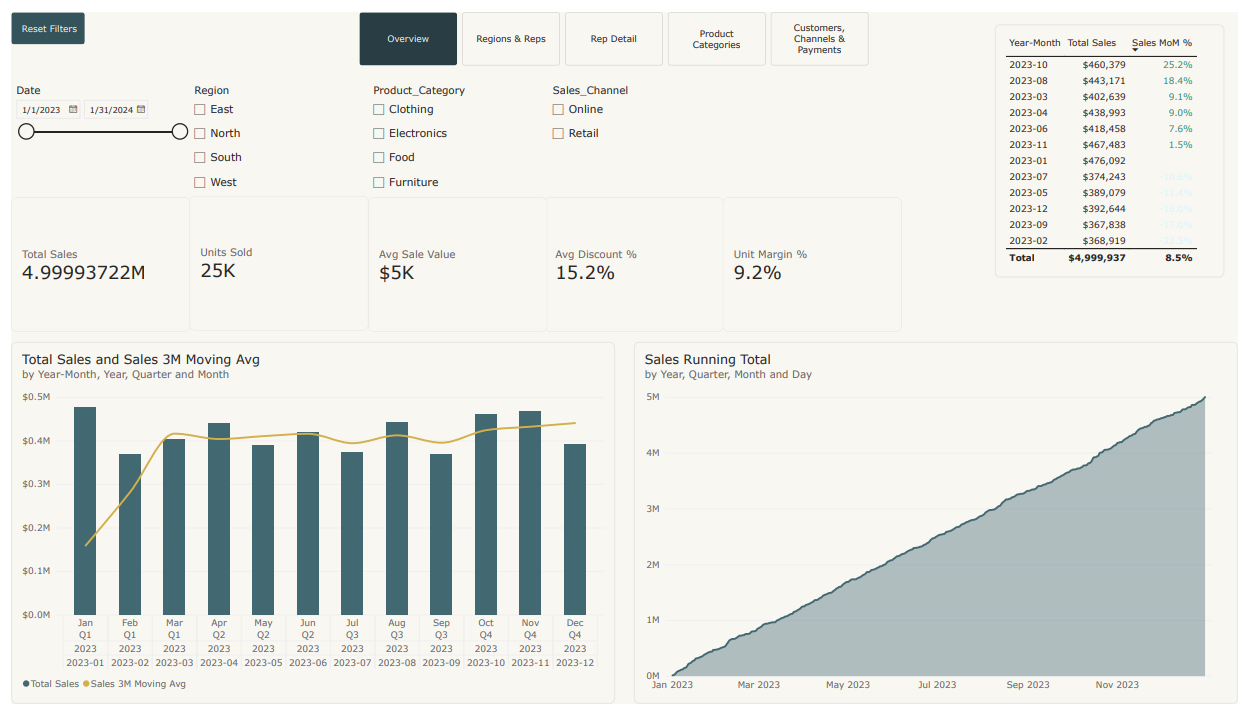

This screenshot's page, from the dashboard's own definition file:
{"tool":"powerbi","page":{"name":"Overview","canvas":[1920,1080],"ordinal":0},"visuals":[{"type":"slicer","fields":{"Values":["Date.Date"]},"box":[0,111.3,279.6,173.6],"z":0},{"type":"slicer","fields":{"Values":["Sales.Region"]},"box":[279.5,111.3,279.6,173.6],"z":1000},{"type":"slicer","fields":{"Values":["Sales.Product_Category"]},"box":[558.9,111.3,280.9,173.6],"z":2000},{"type":"slicer","fields":{"Values":["Sales.Sales_Channel"]},"box":[839.7,111.3,279.6,173.6],"z":3000},{"type":"cardVisual","fields":{"Data":["Sales.Total Sales"]},"box":[0,288.5,280,210],"z":4000},{"type":"cardVisual","fields":{"Data":["Sales.Units Sold"]},"box":[279.5,287.2,280,210],"z":5000},{"type":"cardVisual","fields":{"Data":["Sales.Avg Discount %"]},"box":[834.5,288.5,280,210],"z":6000},{"type":"cardVisual","fields":{"Data":["Sales.Unit Margin %"]},"box":[1114,288.5,280,210],"z":7000},{"type":"cardVisual","fields":{"Data":["Sales.Avg Sale Value"]},"box":[558.9,288.5,280,210],"z":8000},{"type":"lineClusteredColumnComboChart","fields":{"Category":["Date.Year-Month","Date.Year","Date.Quarter","Date.Month"],"Y":["Sales.Total Sales"],"Y2":["Sales.Sales 3M Moving Avg"]},"box":[0,515.4,944.8,564.5],"z":10000},{"type":"areaChart","fields":{"Category":["Date.Date.Variation.Date Hierarchy.Year","Date.Date.Variation.Date Hierarchy.Quarter","Date.Date.Variation.Date Hierarchy.Month","Date.Date.Variation.Date Hierarchy.Day"],"Y":["Sales.Sales Running Total"]},"box":[975.2,515.4,944.8,564.5],"z":11000},{"type":"tableEx","fields":{"Values":["Date.Year-Month","Sales.Total Sales","Sales.Sales MoM %"]},"box":[1539.6,19.4,359.1,394.9],"z":12000},{"type":"pageNavigator","box":[544.7,0,799.6,82.8],"z":12001},{"type":"actionButton","box":[0,0,115.3,50.4],"z":12003}]}

Visuals, with their boxes in screenshot pixels (x1, y1, x2, y2), scaled from the page's 1920x1080 canvas onto the 1252x718 screenshot:
slicer - Date.Date: 0:74:182:189
slicer - Sales.Region: 182:74:365:189
slicer - Sales.Product_Category: 364:74:548:189
slicer - Sales.Sales_Channel: 548:74:730:189
cardVisual - Sales.Total Sales: 0:192:183:331
cardVisual - Sales.Units Sold: 182:191:365:331
cardVisual - Sales.Avg Discount %: 544:192:727:331
cardVisual - Sales.Unit Margin %: 726:192:909:331
cardVisual - Sales.Avg Sale Value: 364:192:547:331
lineClusteredColumnComboChart - Date.Year-Month x Date.Year: 0:343:616:717
areaChart - Date.Date.Variation.Date Hierarchy.Year x Date.Date.Variation.Date Hierarchy.Quarter: 636:343:1251:717
tableEx - Date.Year-Month x Sales.Total Sales: 1004:13:1238:275
pageNavigator: 355:0:877:55
actionButton: 0:0:75:34
